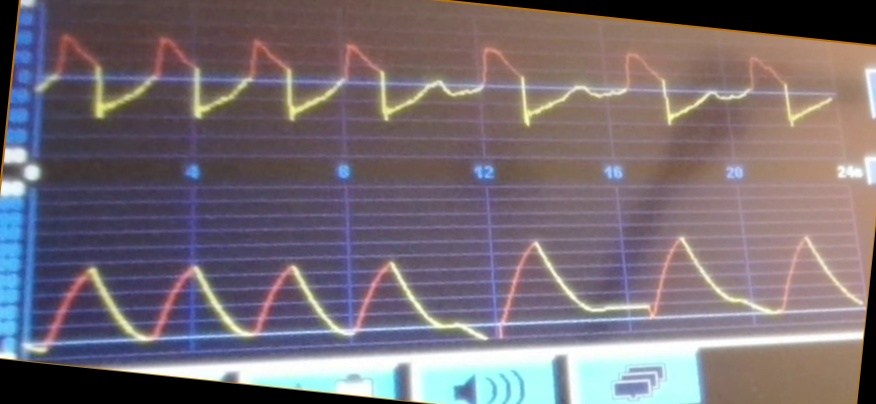Ineffective_effort Flow: (43, 28, 830, 149)
Ineffective_effort Volume: (34, 227, 862, 348)
